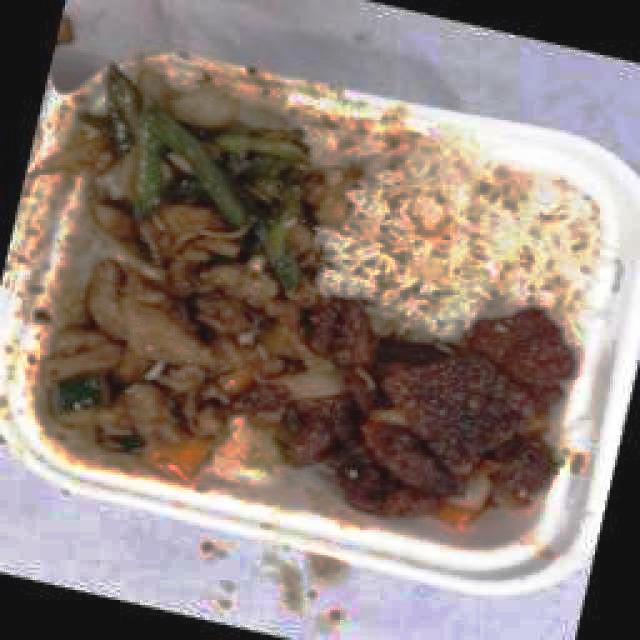Beijing Beef: (333, 323, 561, 522)
Kung Pao Chicken: (54, 276, 306, 475)
String Bean Chicken Breast: (87, 66, 344, 276)
rice: (321, 136, 591, 306)
